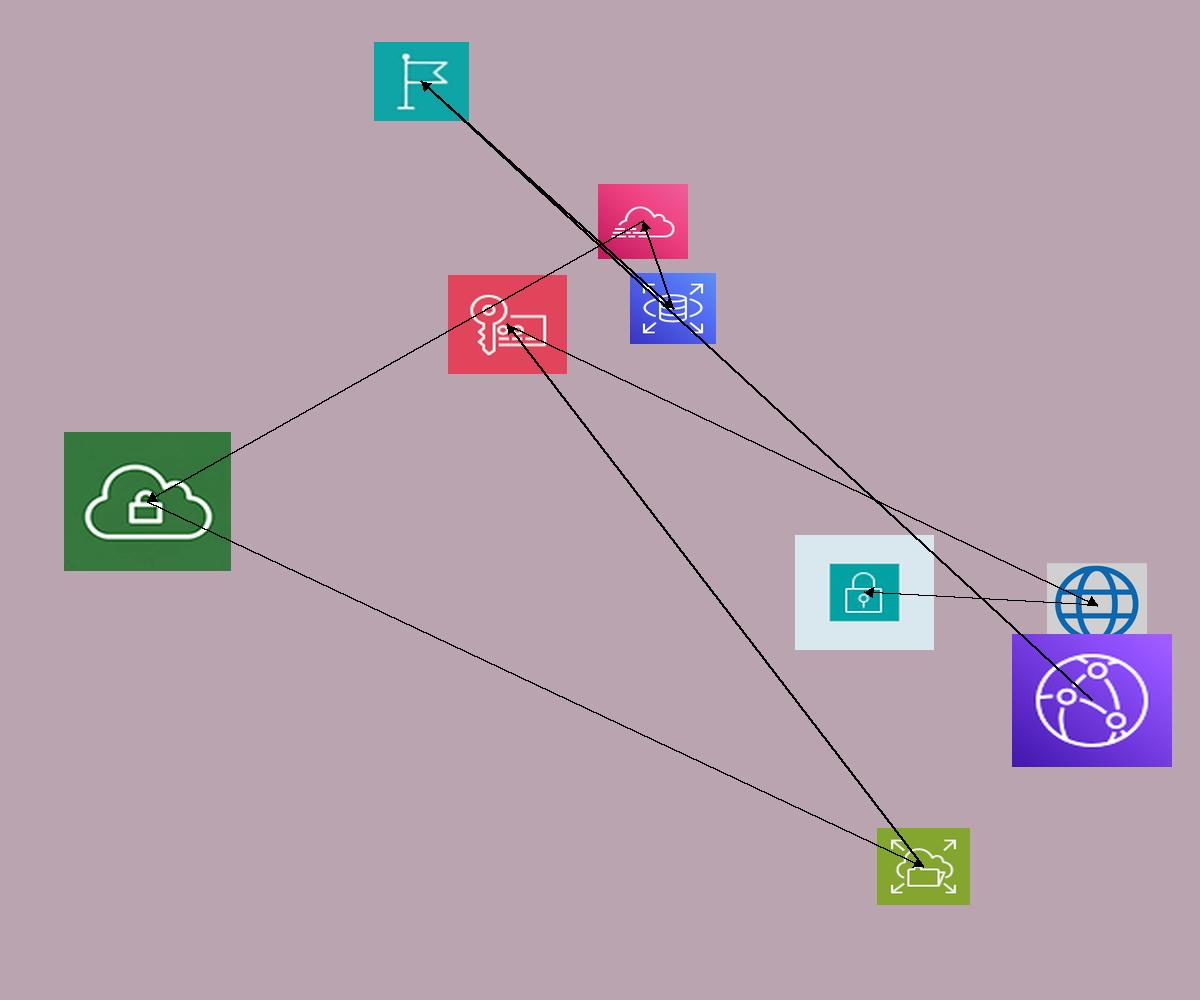AWS-CloudFront: (1012, 634, 1172, 767)
AWS-CloudTrail: (598, 184, 688, 259)
AWS-EFS: (877, 828, 970, 905)
AWS-Key-Management-Service: (448, 275, 567, 374)
AWS-Private-subnet: (795, 535, 934, 650)
AWS-Private_vpc: (64, 432, 231, 571)
AWS-RDS: (630, 273, 716, 344)
AWS-Region: (374, 42, 469, 121)
Azure_http: (1047, 563, 1147, 647)
